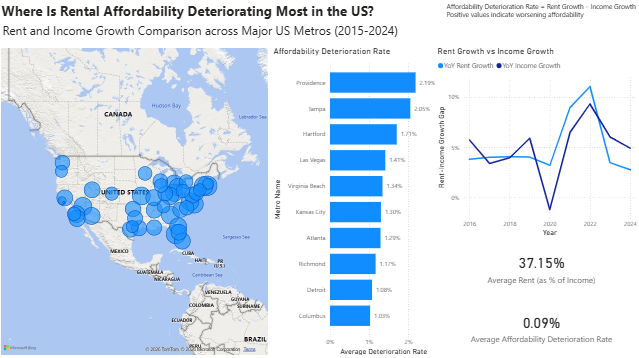

This screenshot's page, from the dashboard's own definition file:
{"tool":"powerbi","page":{"name":"Page 1","canvas":[1280,720],"ordinal":0},"visuals":[{"type":"map","fields":{"Category":["dim_metro.metro_name","dim_metro.state"],"Size":["Avg(mart_affordability.growth_gap)"]},"box":[0,93.3,543.3,623.3],"z":0},{"type":"card","fields":{"Values":["Avg(mart_affordability.rent_to_income)"]},"box":[890,478,390,118],"z":1000},{"type":"card","fields":{"Values":["Avg(mart_affordability.growth_gap)"]},"box":[890,596,390,120],"z":2000},{"type":"actionButton","box":[0,0,100,40],"z":3000},{"type":"clusteredBarChart","title":"Affordability Deterioration Rate","fields":{"Category":["dim_metro.metro_name","dim_metro.state"],"Y":["Avg(mart_affordability.growth_gap)"]},"box":[543.3,93.3,346.7,623.3],"z":4000},{"type":"lineChart","title":"Rent Growth vs Income Growth","fields":{"Category":["mart_affordability.year"],"Y":["Avg(mart_affordability.yoy_rent_growth)","Avg(mart_affordability.yoy_income_growth)"]},"box":[871.7,93.3,408.3,386.7],"z":5000},{"type":"textbox","box":[0,0,763.3,53.3],"z":5001},{"type":"textbox","box":[1.7,40,821.7,41.7],"z":5002},{"type":"textbox","box":[890,0,390,55],"z":5003}]}

Visuals, with their boxes in screenshot pixels (x1, y1, x2, y2), scaled from the page's 1280x720 canvas onto the 639x358 screenshot:
map - dim_metro.metro_name x dim_metro.state: <region>0, 46, 271, 356</region>
card - Avg(mart_affordability.rent_to_income): <region>444, 238, 638, 296</region>
card - Avg(mart_affordability.growth_gap): <region>444, 296, 638, 356</region>
actionButton: <region>0, 0, 50, 20</region>
"Affordability Deterioration Rate" clusteredBarChart: <region>271, 46, 444, 356</region>
"Rent Growth vs Income Growth" lineChart: <region>435, 46, 638, 239</region>
textbox: <region>0, 0, 381, 27</region>
textbox: <region>1, 20, 411, 41</region>
textbox: <region>444, 0, 638, 27</region>
